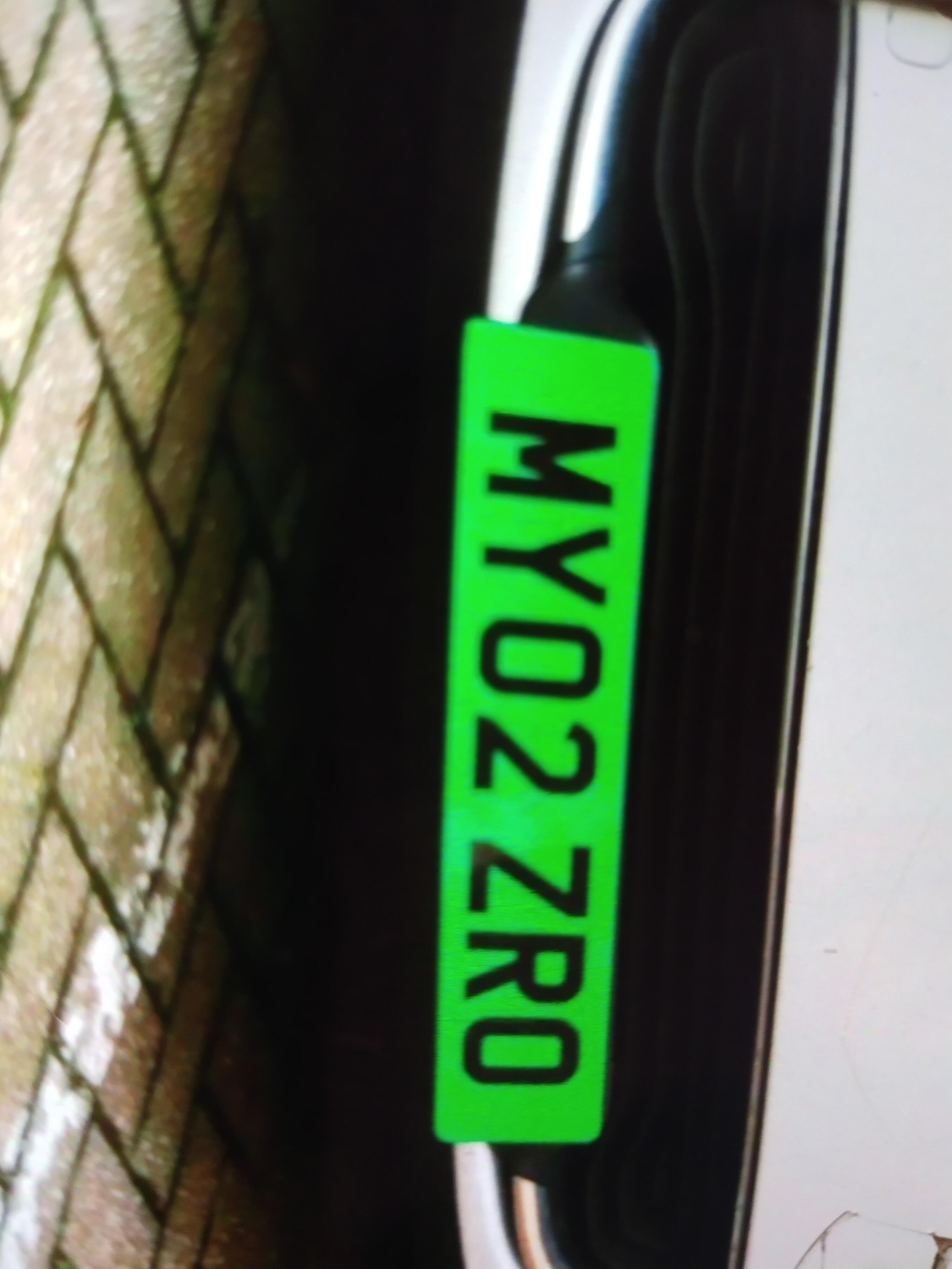green license plate: (429, 314, 665, 1145)
